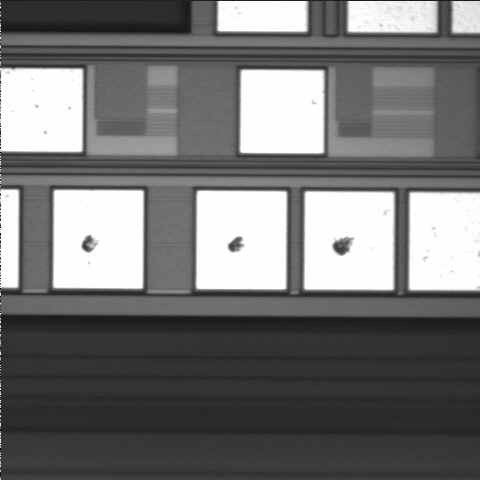pad: (196, 191, 287, 289), (53, 190, 143, 289), (304, 192, 394, 290), (240, 70, 324, 153)
